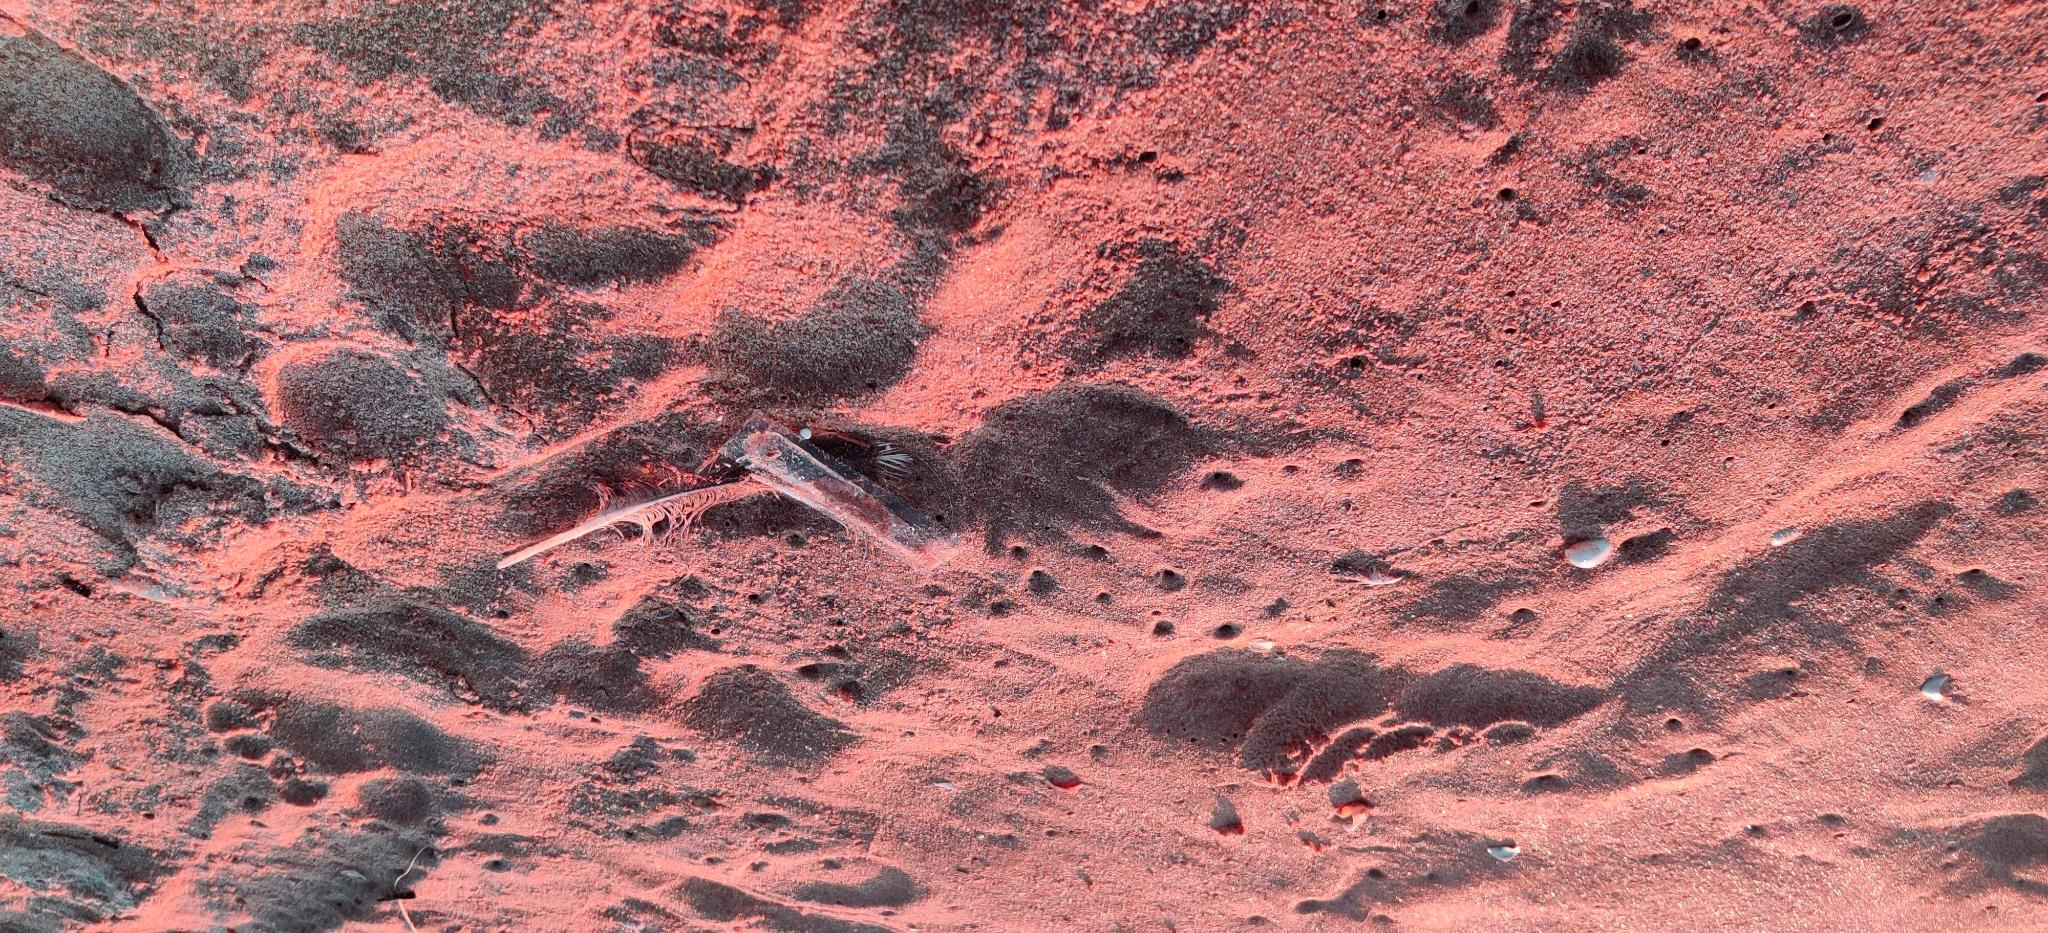Plastic: (708, 399, 973, 581)
